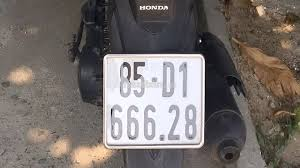Bien-so: (102, 54, 204, 150)
